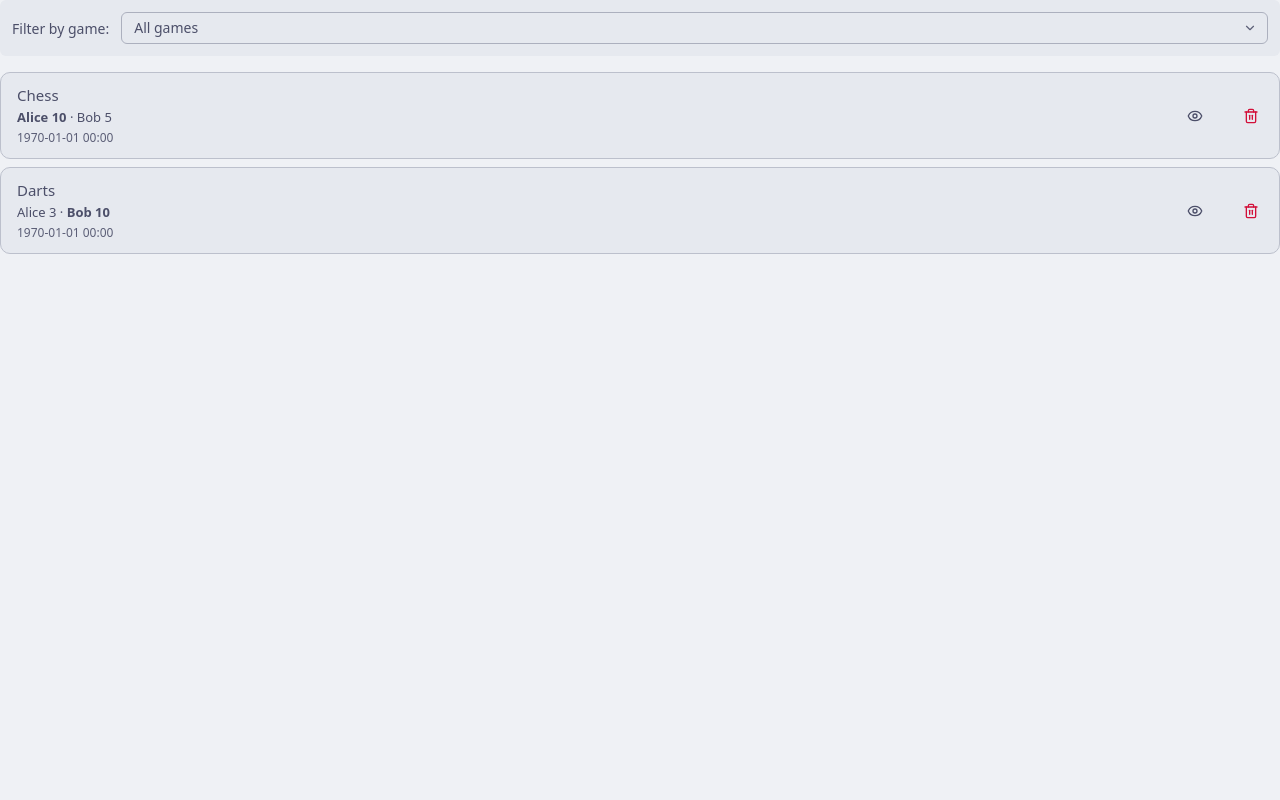
HistoryScreen › delete flow: confirms via modal and removes the match
This screenshot has width=1280, height=800.
Click the button named "Delete" in the row of "Bob 5" at (1251, 116), box [1223,73,1279,158]
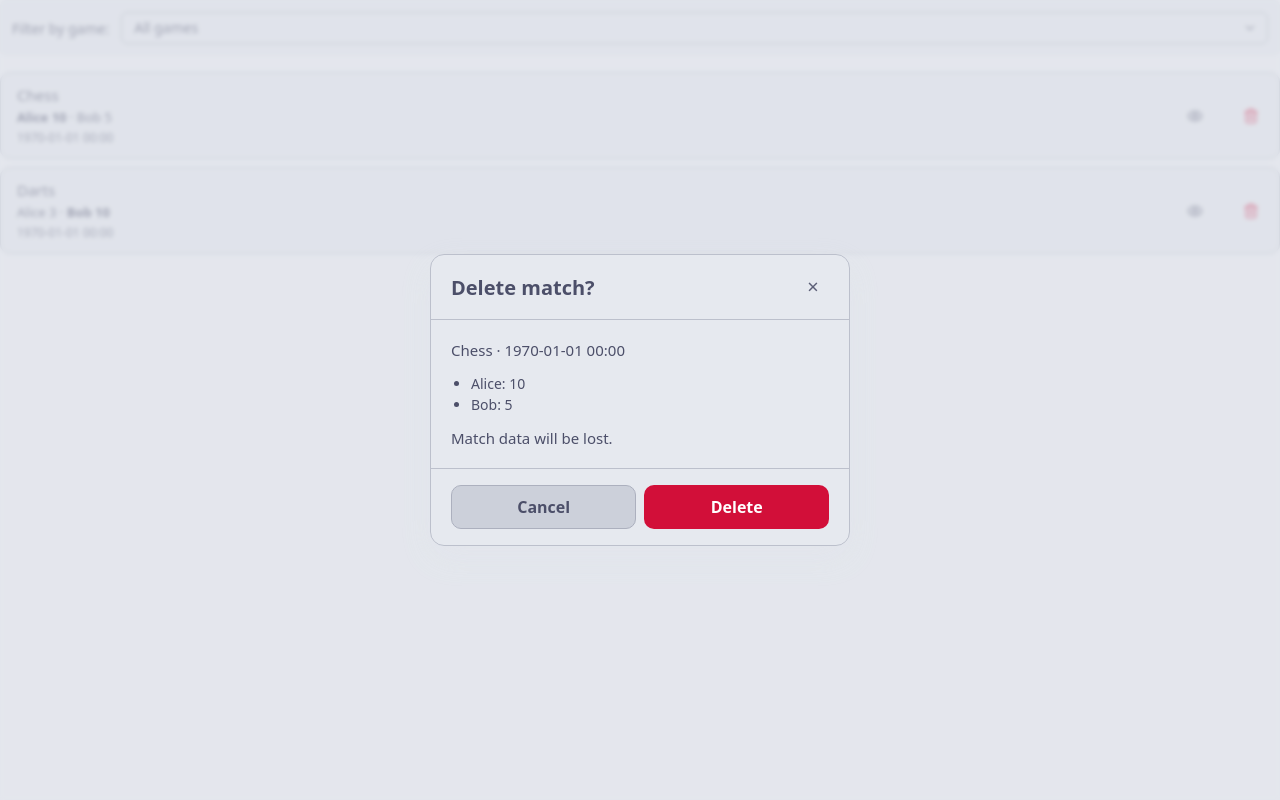
Expected: the heading "Delete match?" is shown, [451,274,595,300]
Expected: the text "Match data will be lost." is shown, [451,428,613,448]
Click the button "Cancel" at (544, 507), box [451,485,636,529]
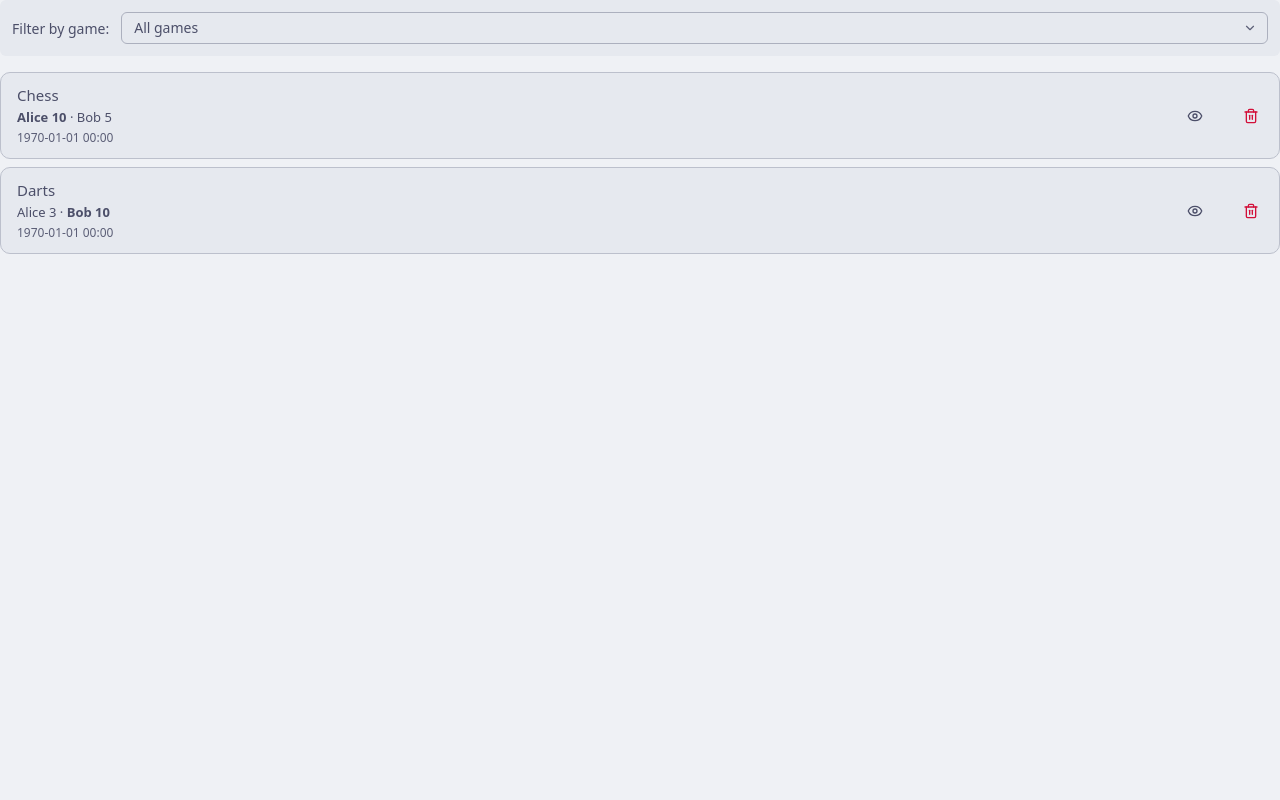
Expected: the text "Chess" is shown, [17,85,59,105]
Expected: the heading "Delete match?" is gone
Click the button named "Delete" in the row of "Bob 5" at (1251, 116), box [1223,73,1279,158]
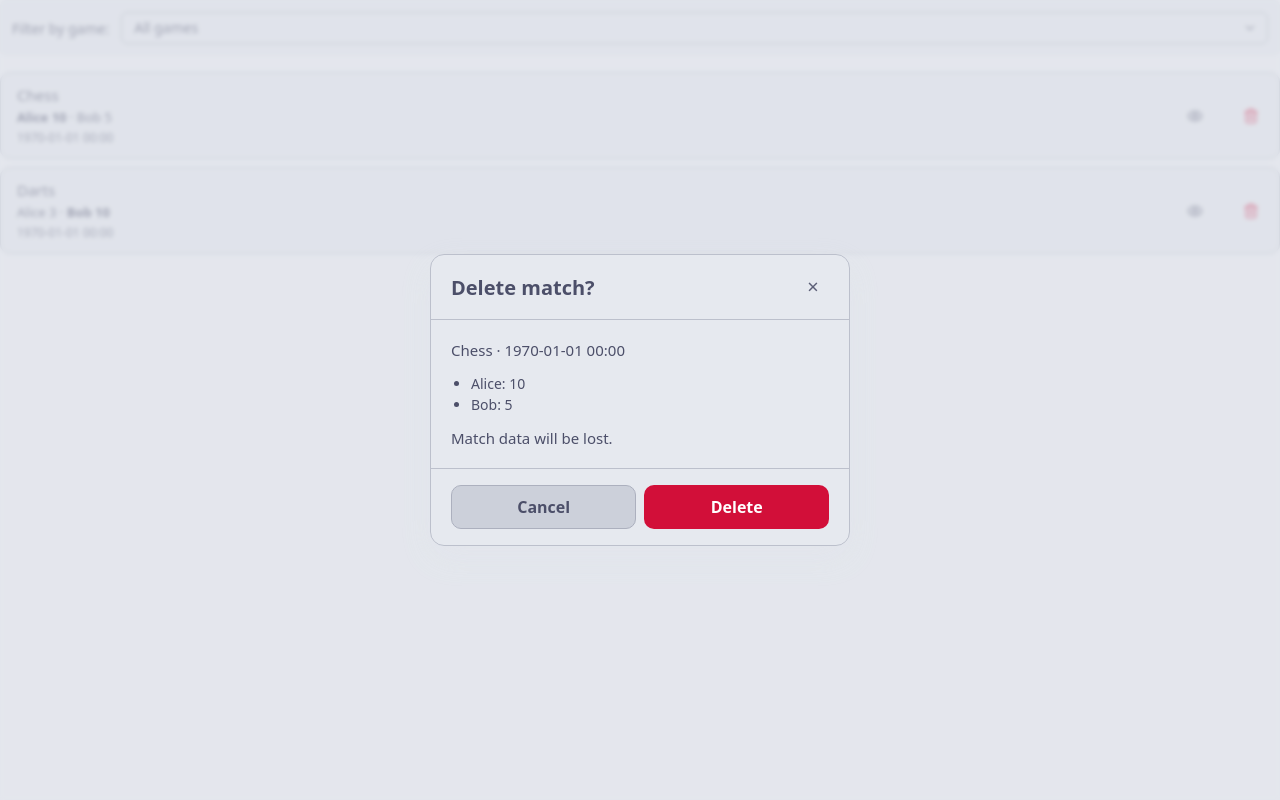
Click the button "Delete" at (737, 507), box [644,485,829,529]
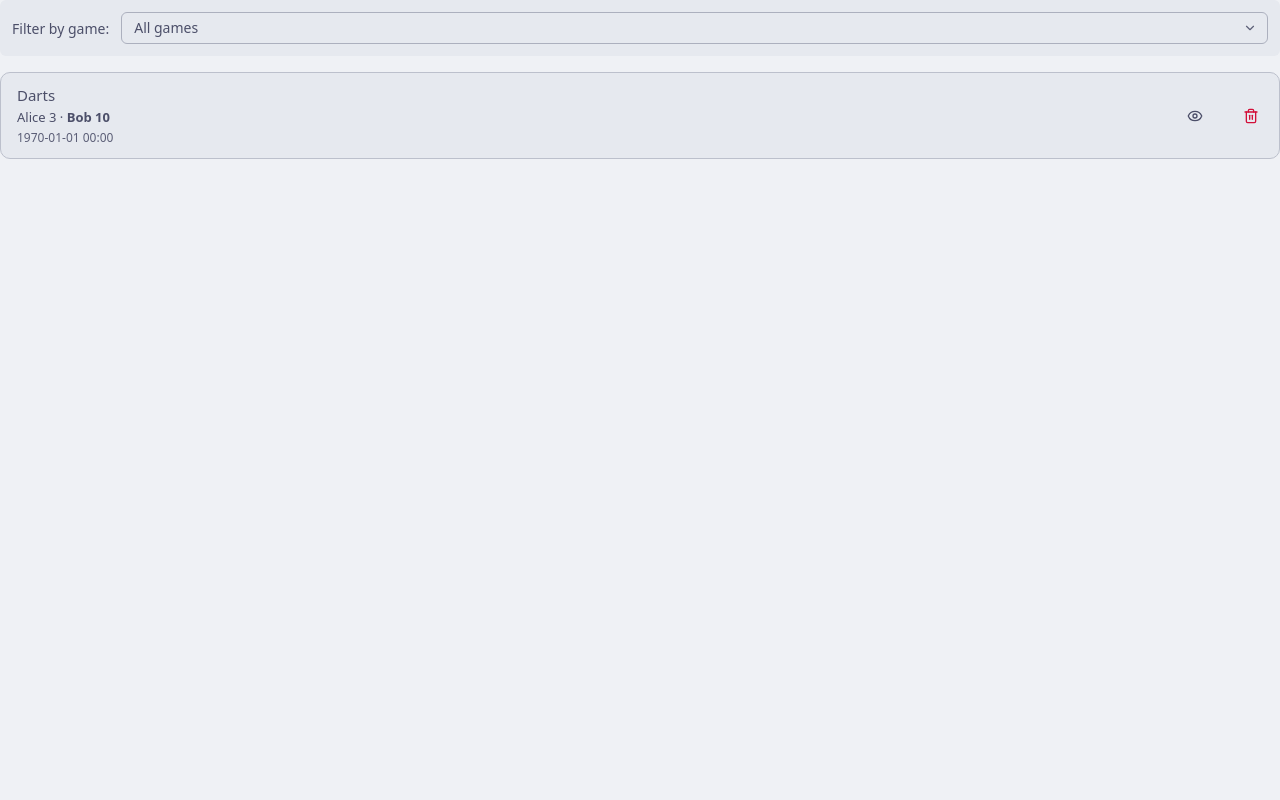
Expected: the text "Darts" is shown, [17,85,55,105]
Expected: the heading "Delete match?" is gone
Expected: the text "Chess" is gone
